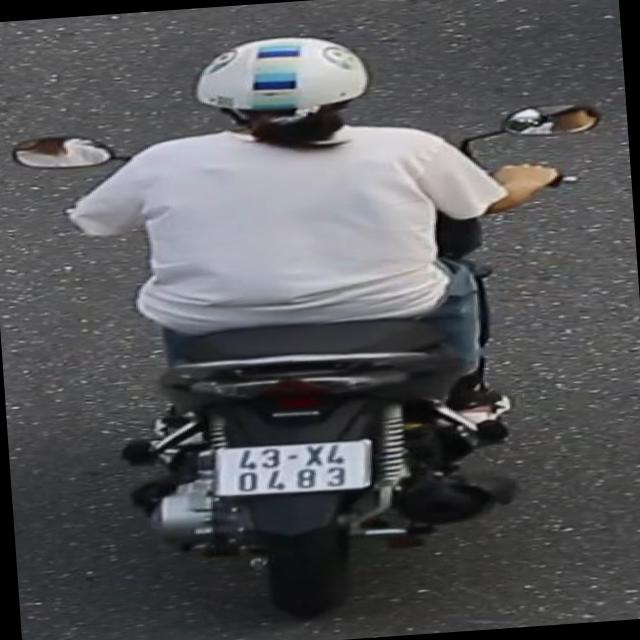LP: (207, 434, 380, 506)
helmet: (182, 26, 378, 155)
